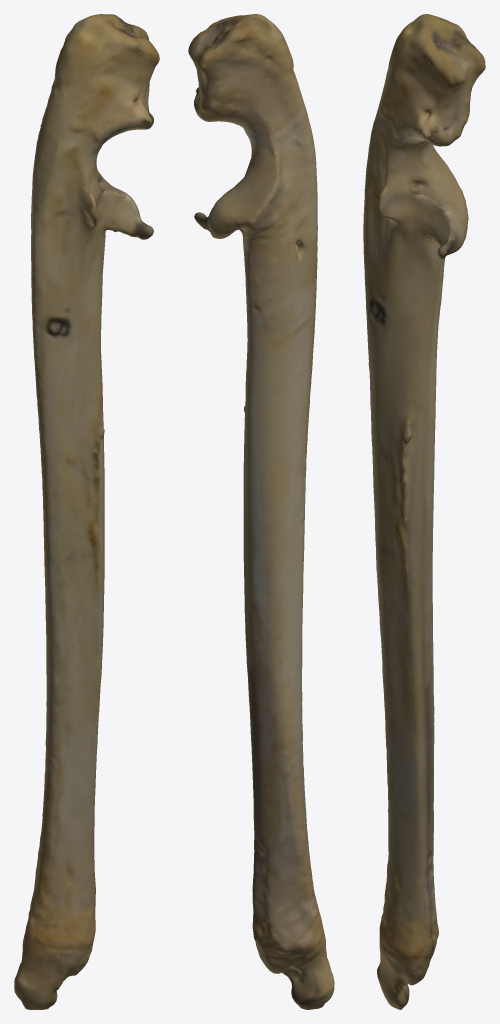
Rendered from UlnaWeb.glb.
The picture shows the model from 3 angles, left to right: view 1: azimuth 30°, elevation 25°; view 2: azimuth 210°, elevation 25°; view 3: azimuth 330°, elevation 25°; orthographic projection. The views are drawn at different scales.
Parts seen in each view (by area): view 1: cat bone 7; view 2: cat bone 7; view 3: cat bone 7.
Part boxes in pixels (x1,y1,x2,y2): cat bone 7: (14,14,159,1009); cat bone 7: (188,14,334,1009); cat bone 7: (363,14,485,1009).
Bounding box in the file's own units: 12.42 × 99.74 × 9.7.
Materials: 1 (1 with a texture image).
